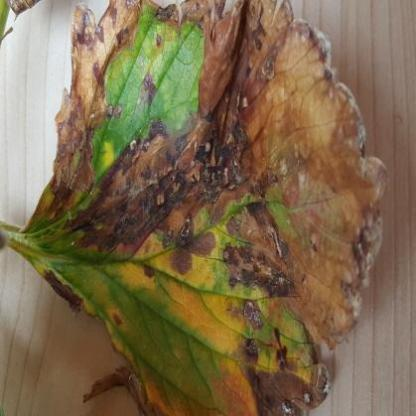Strawberry_Angular_LeafSpot: (15, 0, 391, 415)
